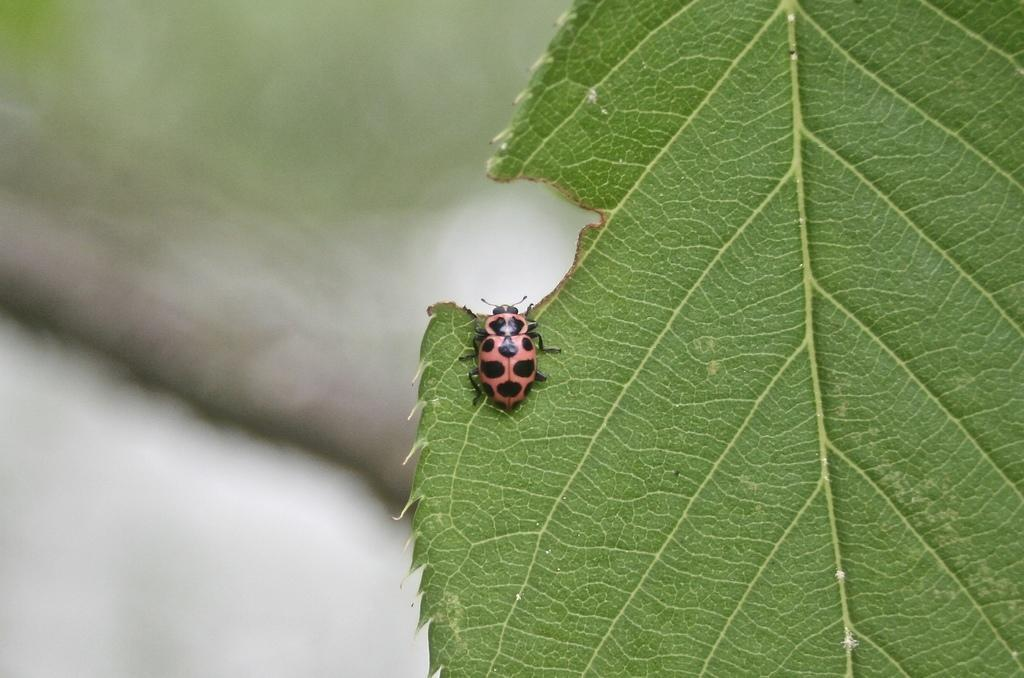ladybug: (457, 291, 565, 419)
